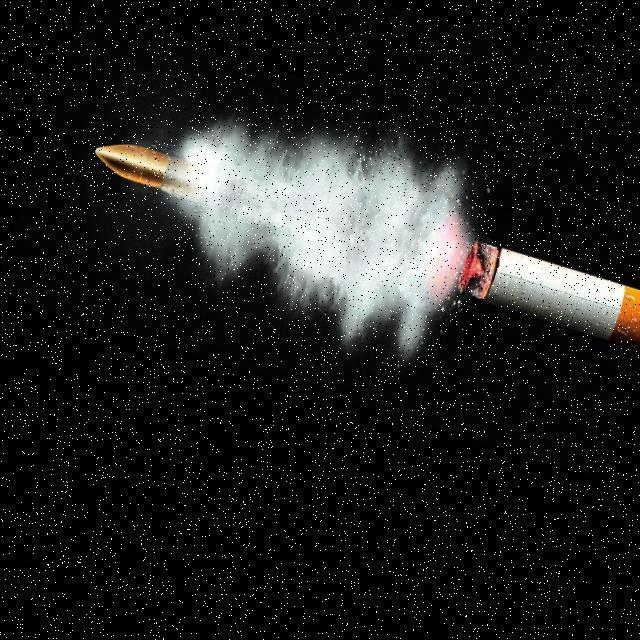cigarette: (446, 229, 640, 356)
